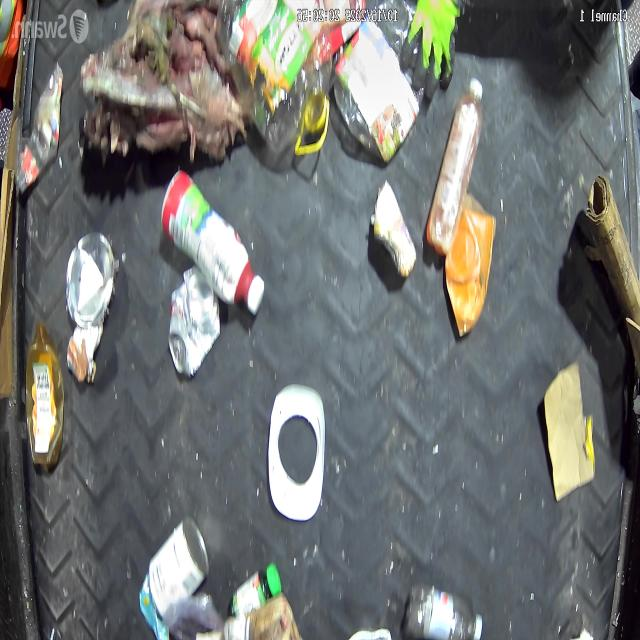can: (148, 517, 210, 622), (167, 266, 220, 379), (371, 180, 417, 280)
non_white_jug: (25, 322, 64, 467)
plastic_bottle: (405, 582, 483, 640)
